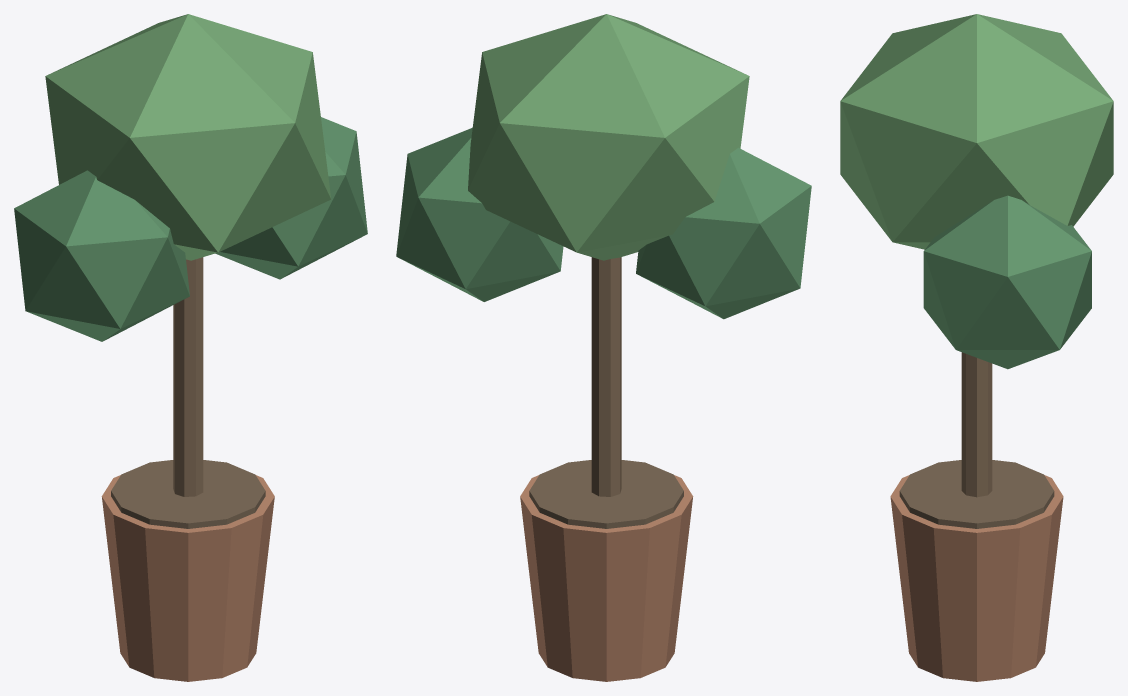
File: planta_vaso_medio.glb
3 renders of one model, left to right at view 1: azimuth 30°, elevation 25°; view 2: azimuth 150°, elevation 25°; view 3: azimuth 270°, elevation 25°, orthographic.
Parts seen in each view (by area): view 1: PLANTA_VASO_MEDIO_v01; view 2: PLANTA_VASO_MEDIO_v01; view 3: PLANTA_VASO_MEDIO_v01.
Boxes of the visible parts, box(x1,y1,x2,y2) form: PLANTA_VASO_MEDIO_v01: box(14, 14, 367, 681); PLANTA_VASO_MEDIO_v01: box(396, 14, 811, 681); PLANTA_VASO_MEDIO_v01: box(840, 14, 1113, 681).
Bounding box in the file's own units: 0.6762 × 1.14 × 0.4423.
